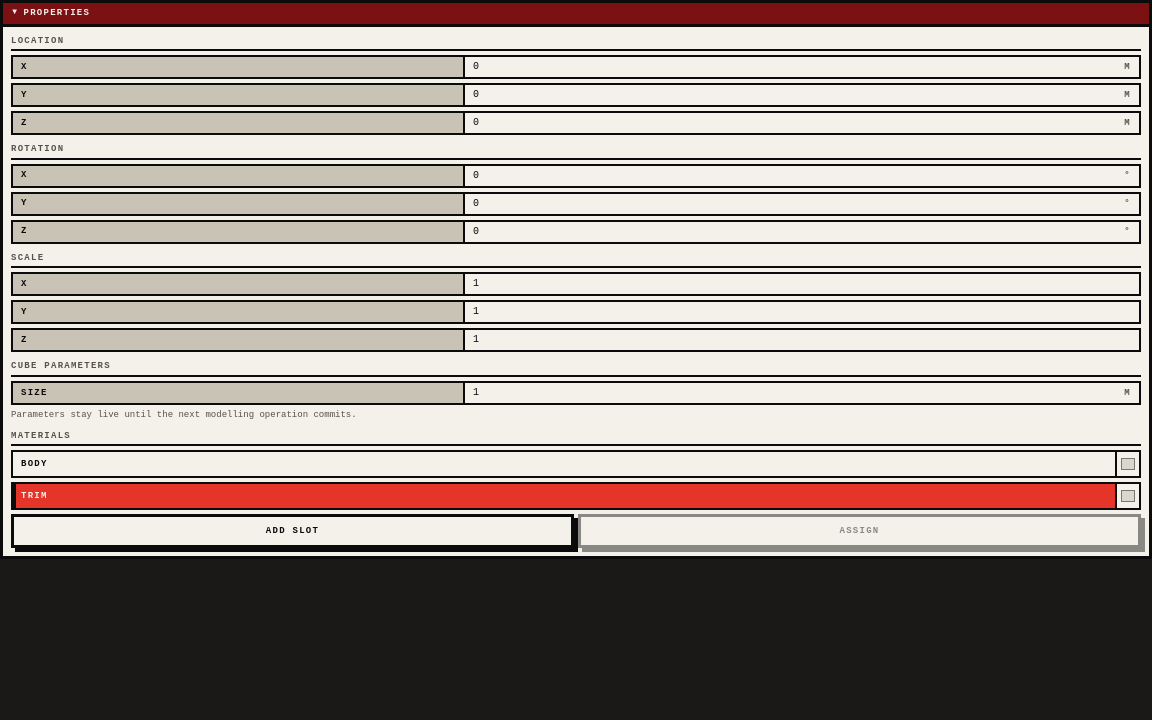
Test: PropertiesPanel material slots › abandons the rename on Escape
Step 1. Double-click the button "BODY" → [34, 464], box top-left (13, 452), bottom-right (1115, 476)
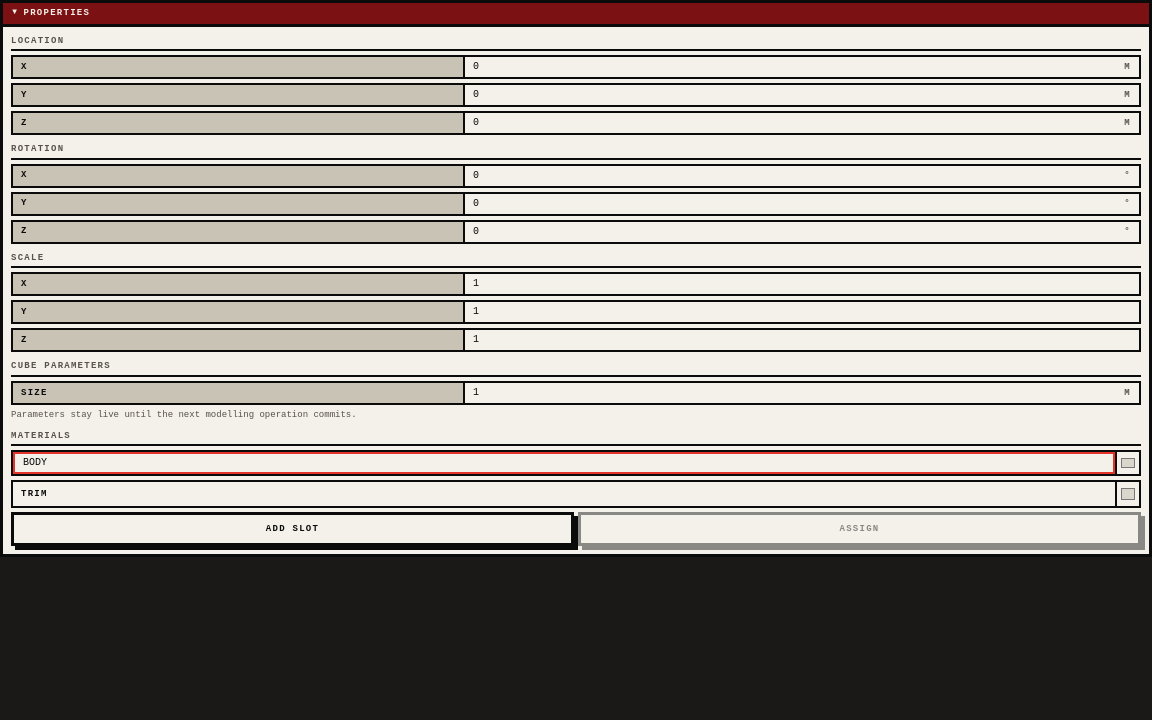
Step 2. Replace the text in the field showing "BODY" with "CHROME" → [564, 463], box top-left (13, 452), bottom-right (1115, 474)
Then press Escape
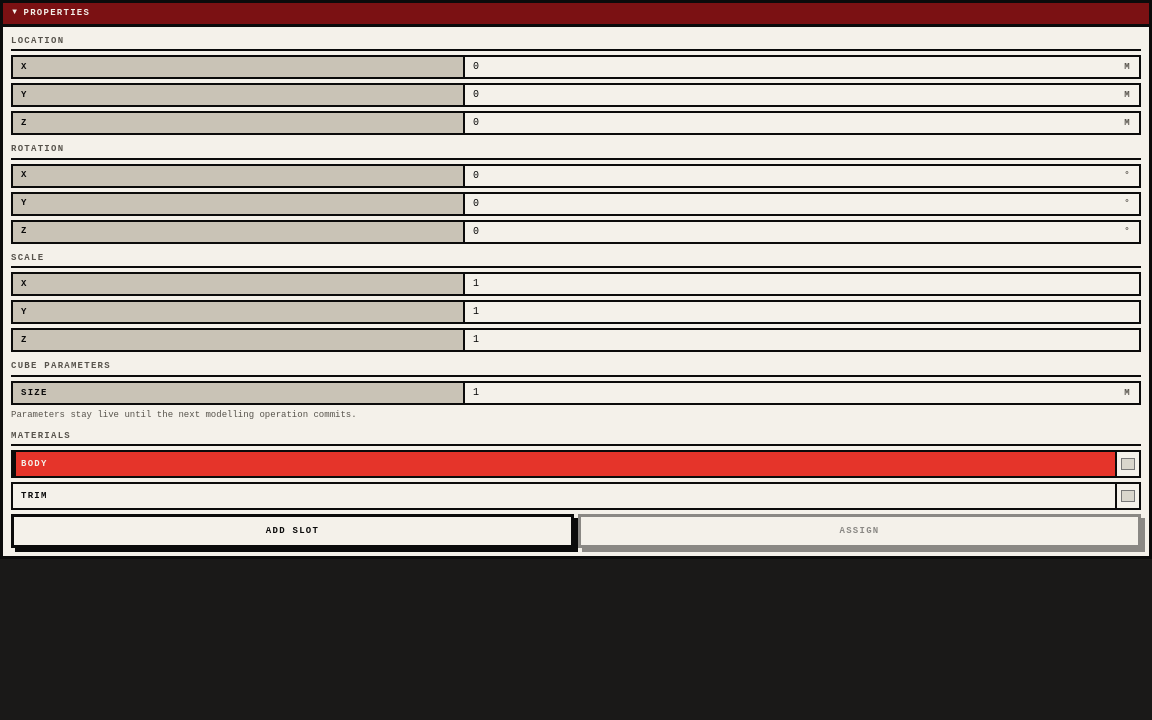
Expected: the button "BODY" is shown, top-left (13, 452), bottom-right (1115, 476)
